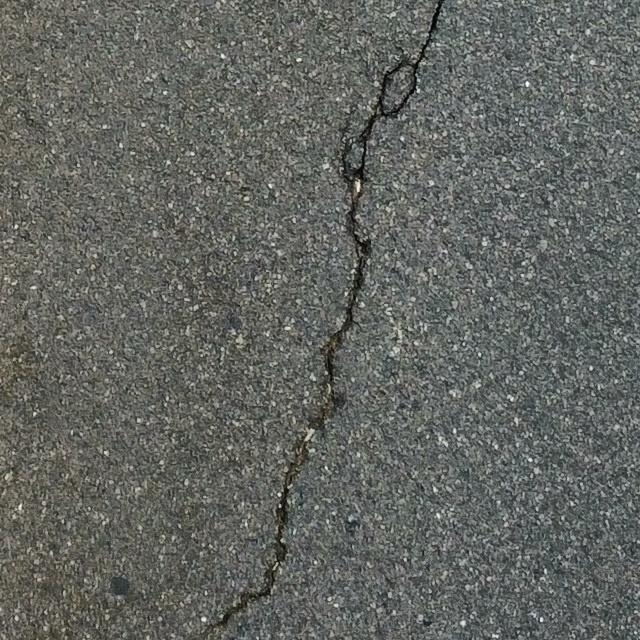LongitudinalCrack: (207, 1, 441, 632)
